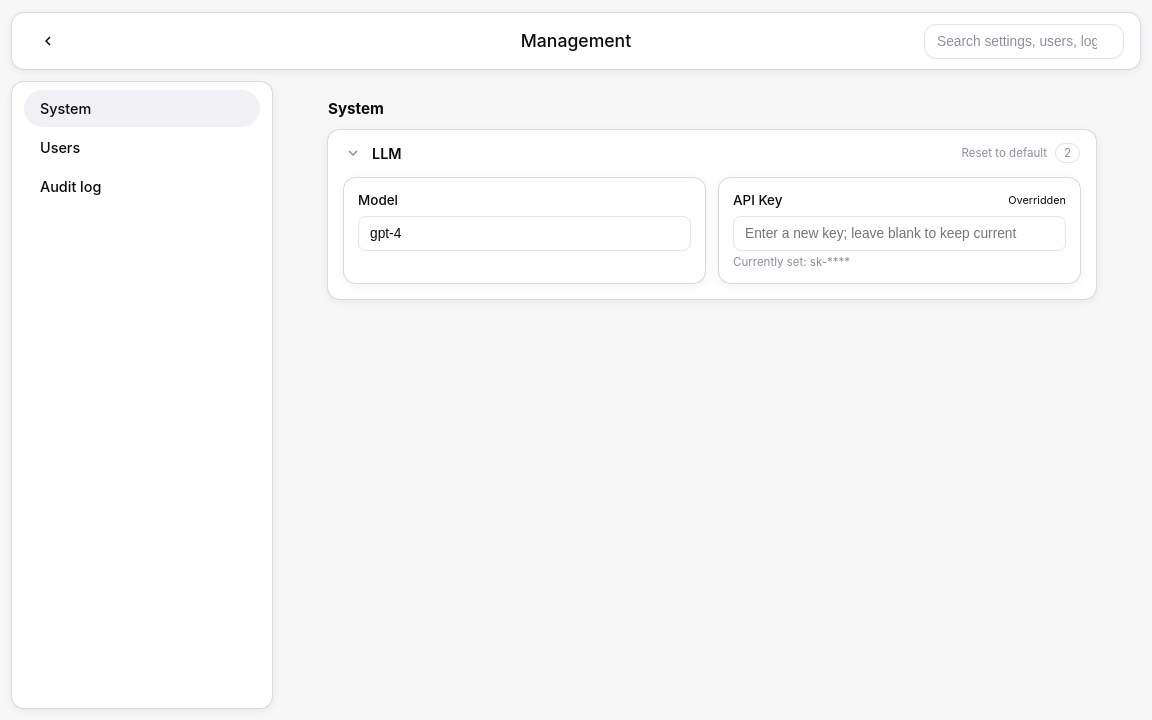
Test: SettingsPage › shows a save error when patch settings fails
Expected: the heading "Management" is shown, [521,30,631,52]
Replace the text in the field labelled "Model" with "gpt-4.1": (524, 234) [358,216,691,251]
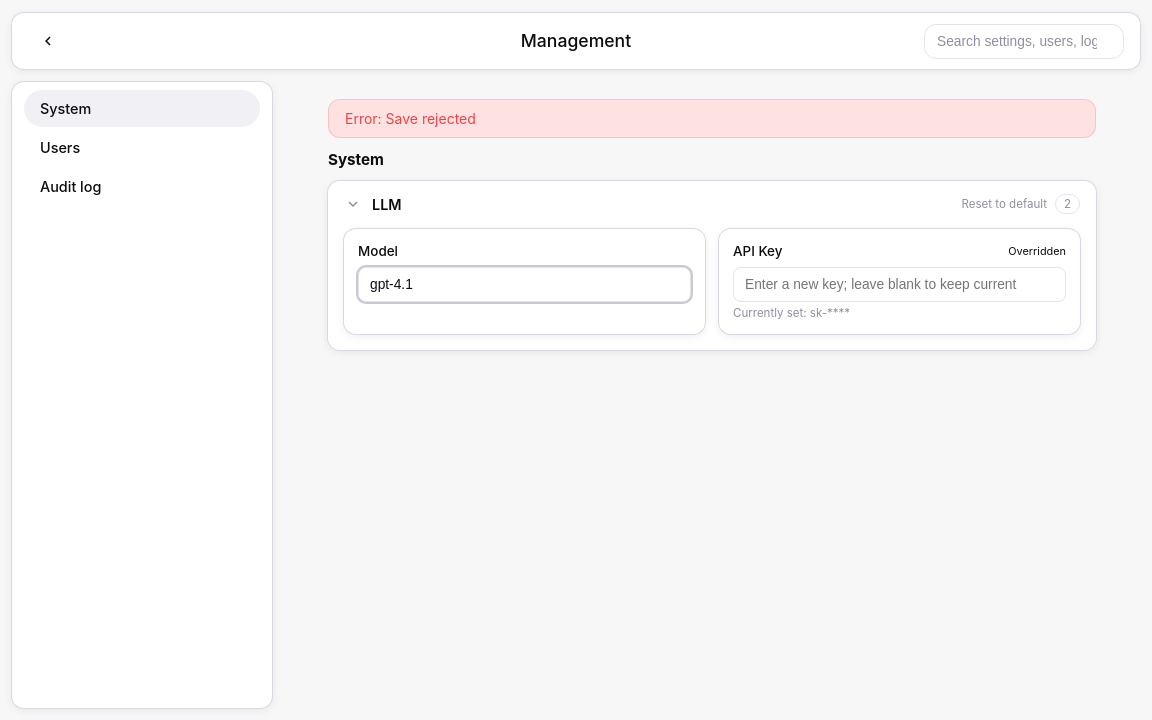
Now the text "Error: Save rejected" is shown, box [328,99,1096,138]
